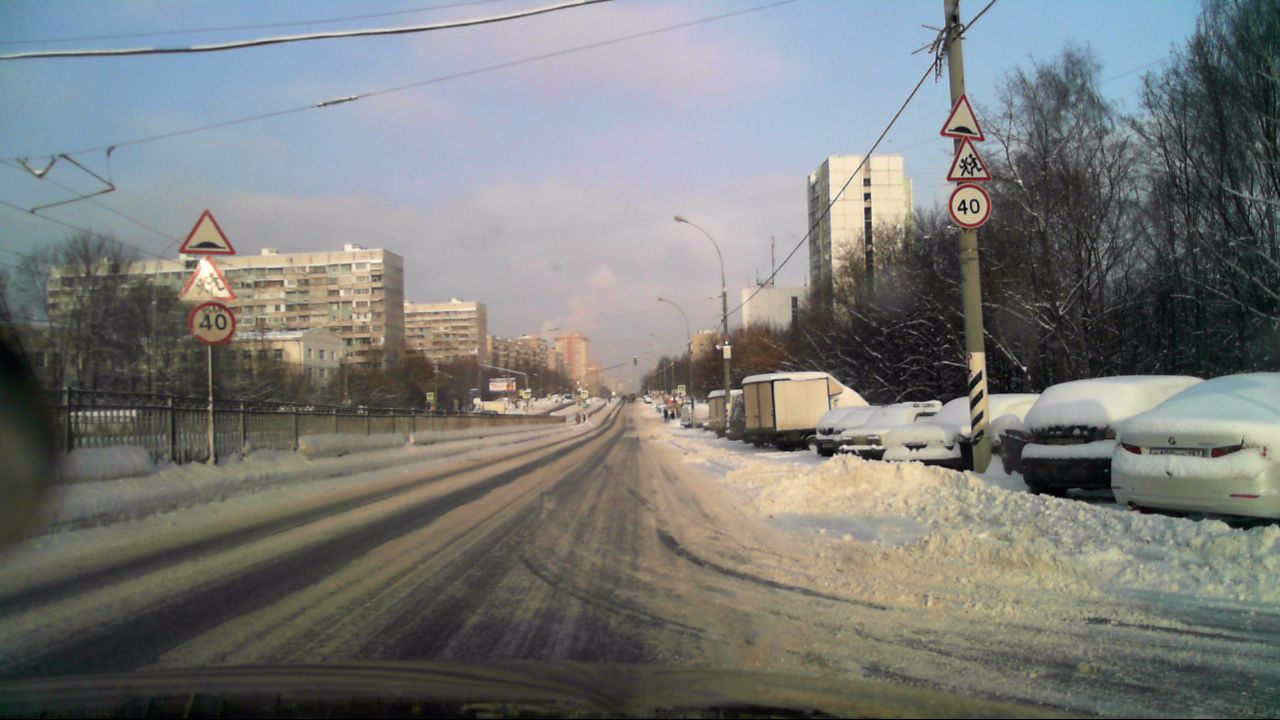speed_warning_40: (188, 299, 237, 347)
